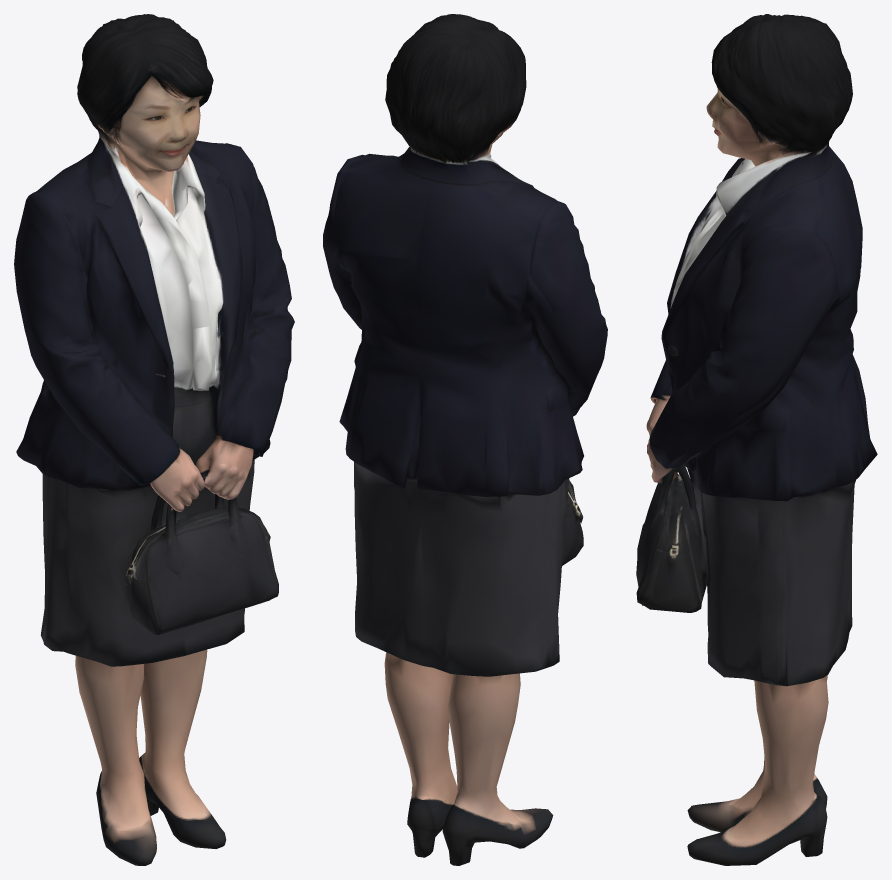
The model's file is JPGV01_W04_L10k.glb.
3 renders of one model, left to right at view 1: azimuth 30°, elevation 25°; view 2: azimuth 150°, elevation 25°; view 3: azimuth 270°, elevation 25°, orthographic. The views are drawn at different scales.
Visible parts, largest first — view 1: JPGV01_W04_L10k; view 2: JPGV01_W04_L10k; view 3: JPGV01_W04_L10k.
Part boxes in pixels (x1,y1,x2,y2): JPGV01_W04_L10k: [14, 14, 294, 865]; JPGV01_W04_L10k: [323, 14, 607, 865]; JPGV01_W04_L10k: [636, 14, 877, 865].
Size of the model in its own units: 0.5122 by 1.59 by 0.4224.
Materials: 1 (1 with a texture image).
